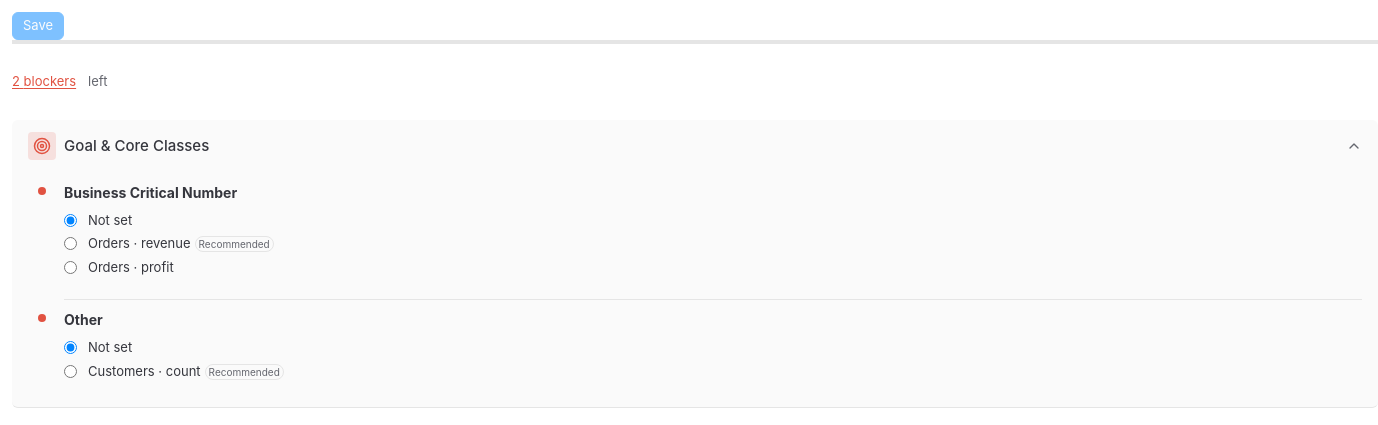
Scenario: picking an option checks it, raises the change count and moves the progress bar; Not set undoes it
Expected: the button "Save" is disabled, [12, 12, 64, 40]
Click the radio button labelled "Orders · profit": [70, 267] box [64, 260, 77, 274]
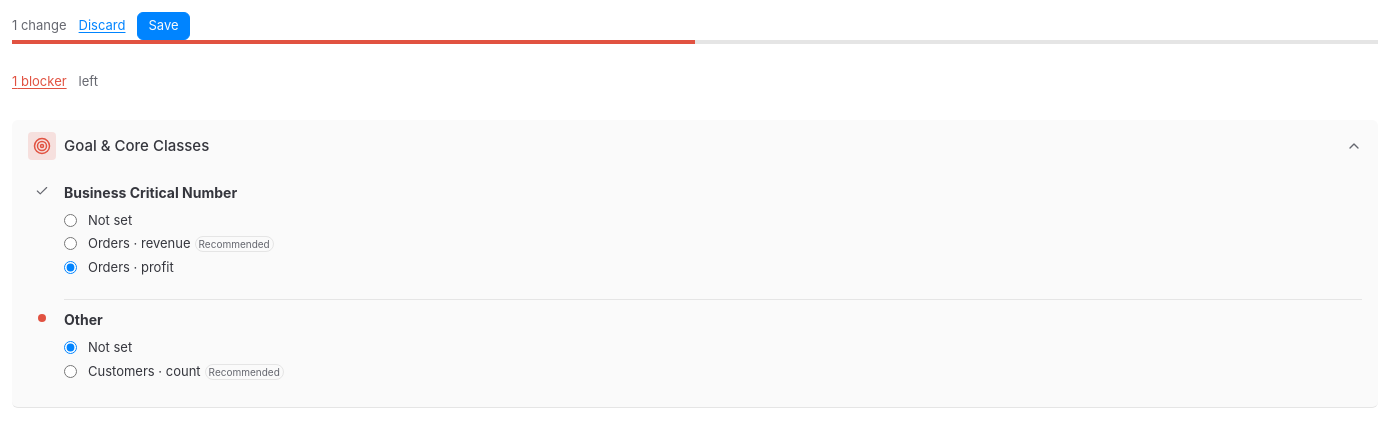
Expected: the radio button labelled "Orders · profit" is checked, [64, 260, 77, 274]
Expected: the text "1 change" is shown, [12, 16, 67, 36]
Expected: the button "Save" is enabled, [138, 12, 190, 40]
Click the radio button labelled "Not set" below "Business Critical Number": [70, 220] box [64, 214, 77, 226]
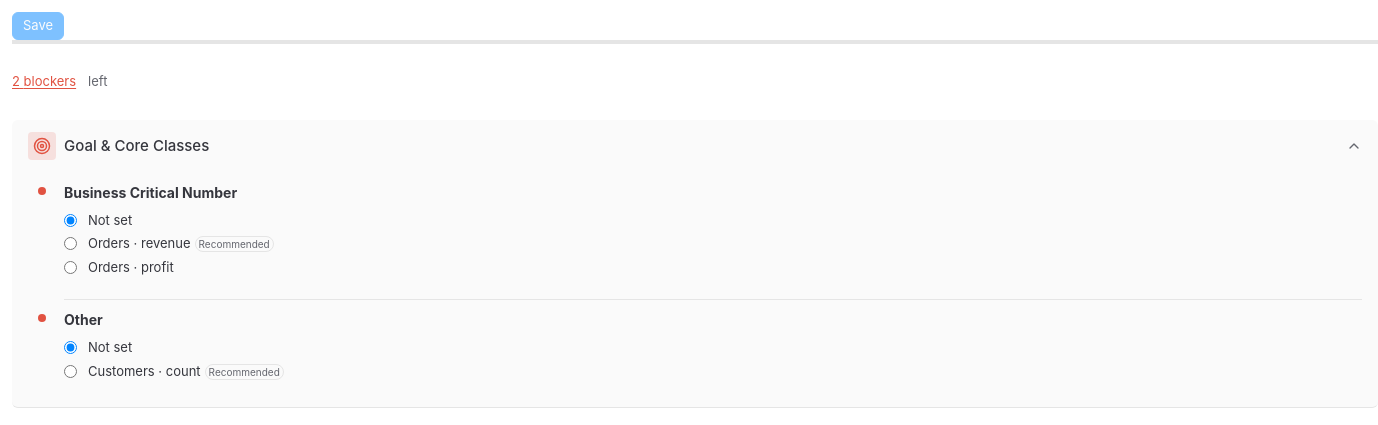
Expected: the text "1 change" is gone
